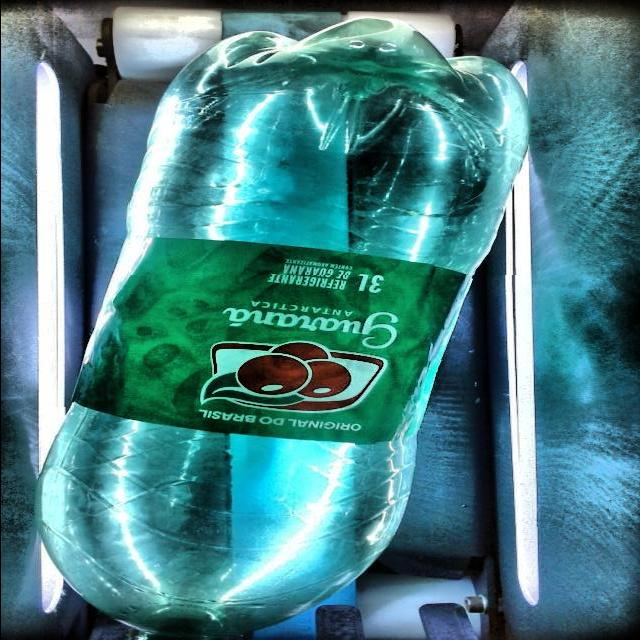bottom: (128, 21, 526, 275)
label: (73, 237, 467, 443)
neck: (39, 407, 353, 639)
